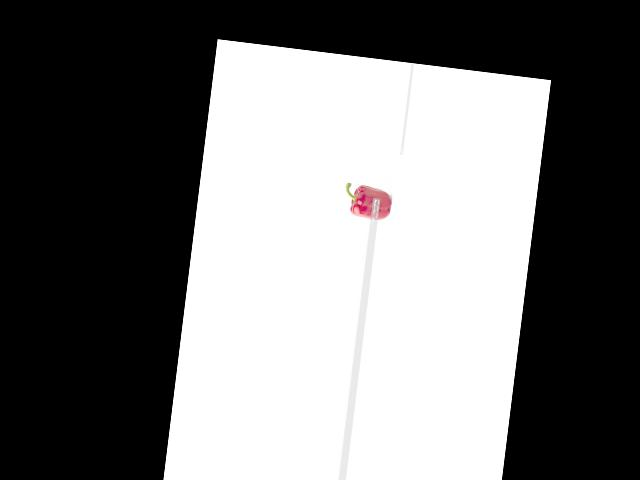bell_pepper: (339, 177, 392, 223)
